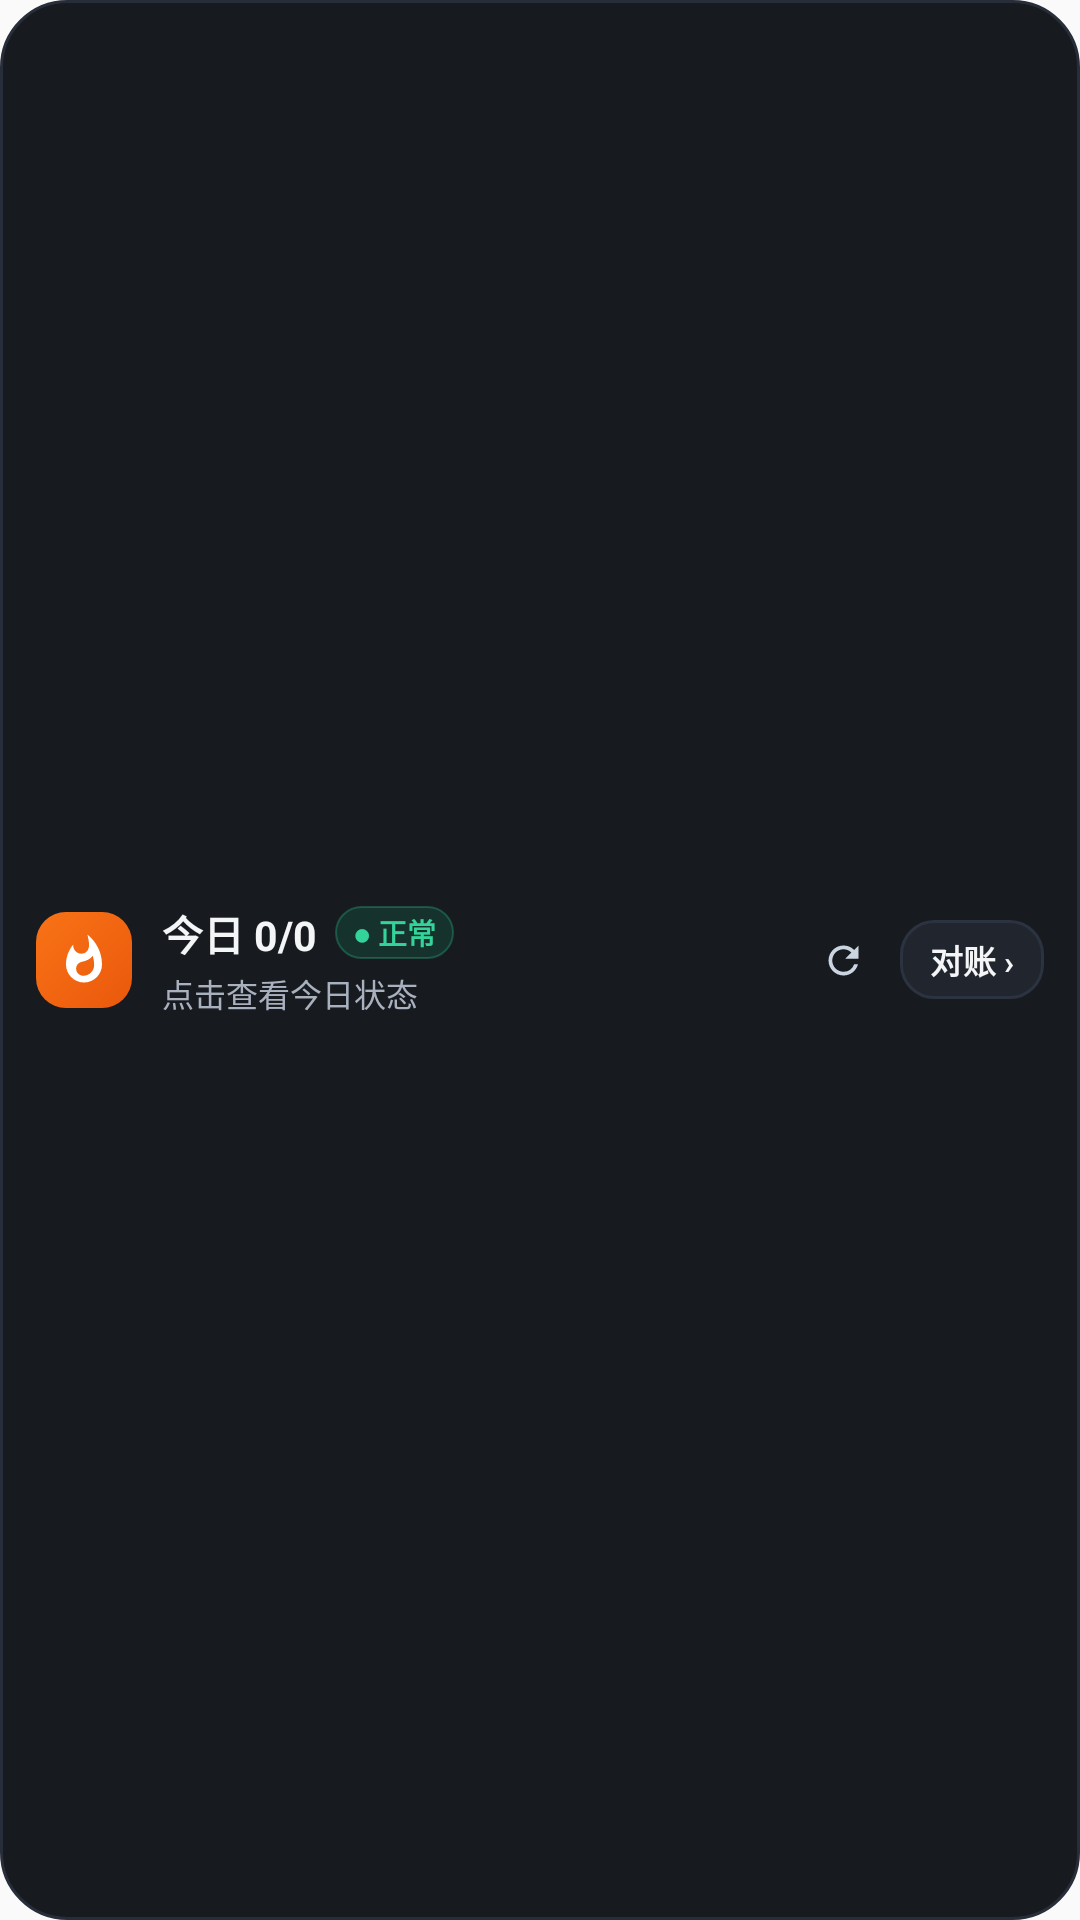

Where to tap for icons on this 1080×1920 app screen, as point (x, y):
widget flame: point (84, 960)
刷新今日续火状态: point (843, 960)
